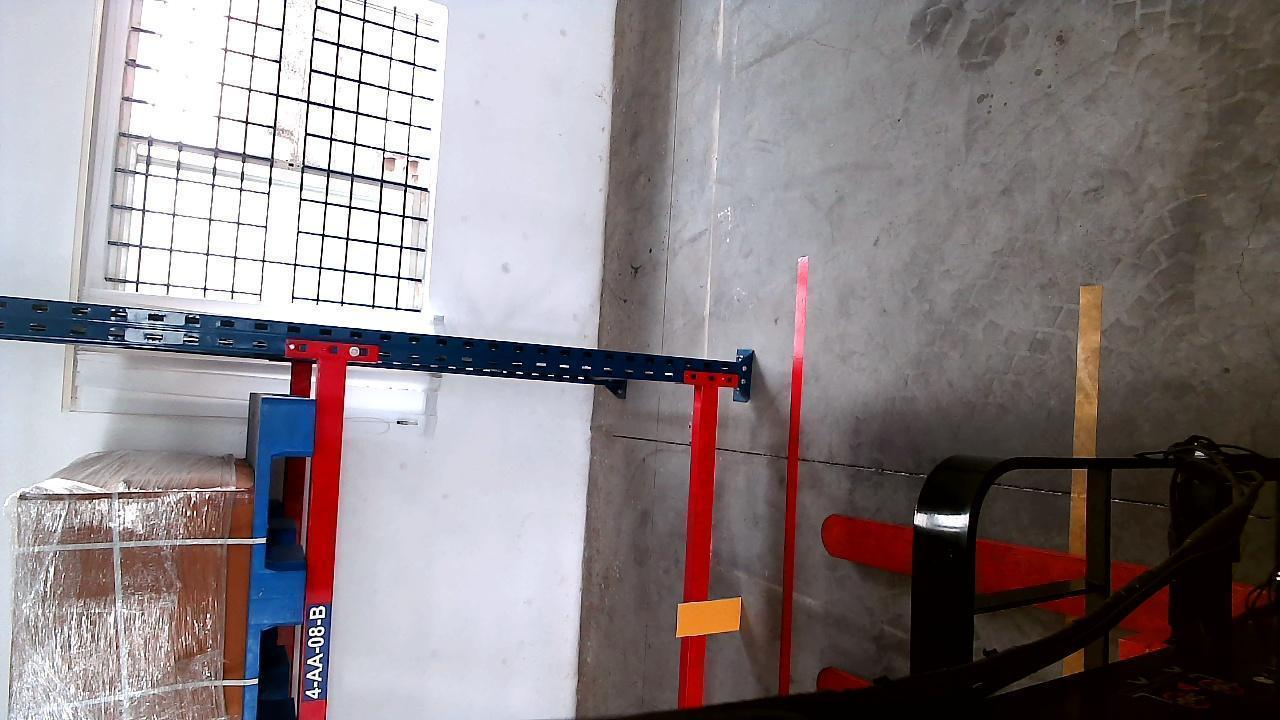red_line: (777, 257, 808, 703)
yellow_line: (1068, 282, 1103, 578)
